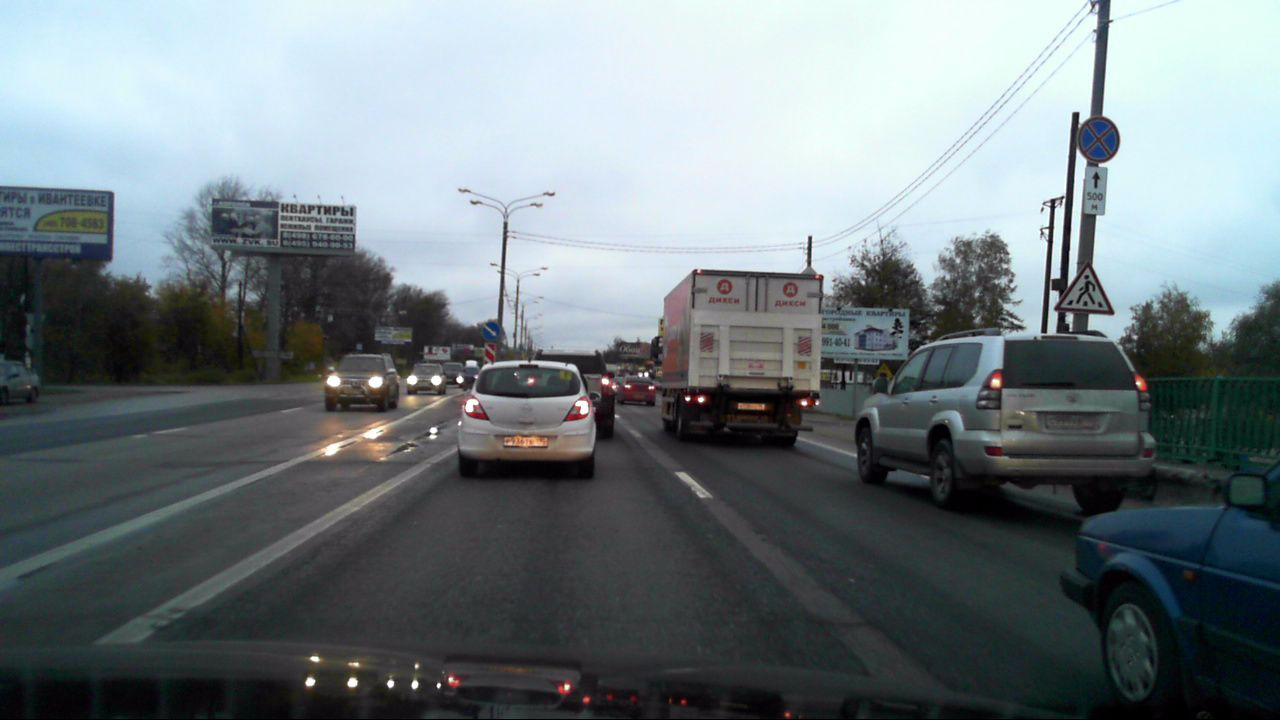No Parking: (1078, 117, 1122, 163)
